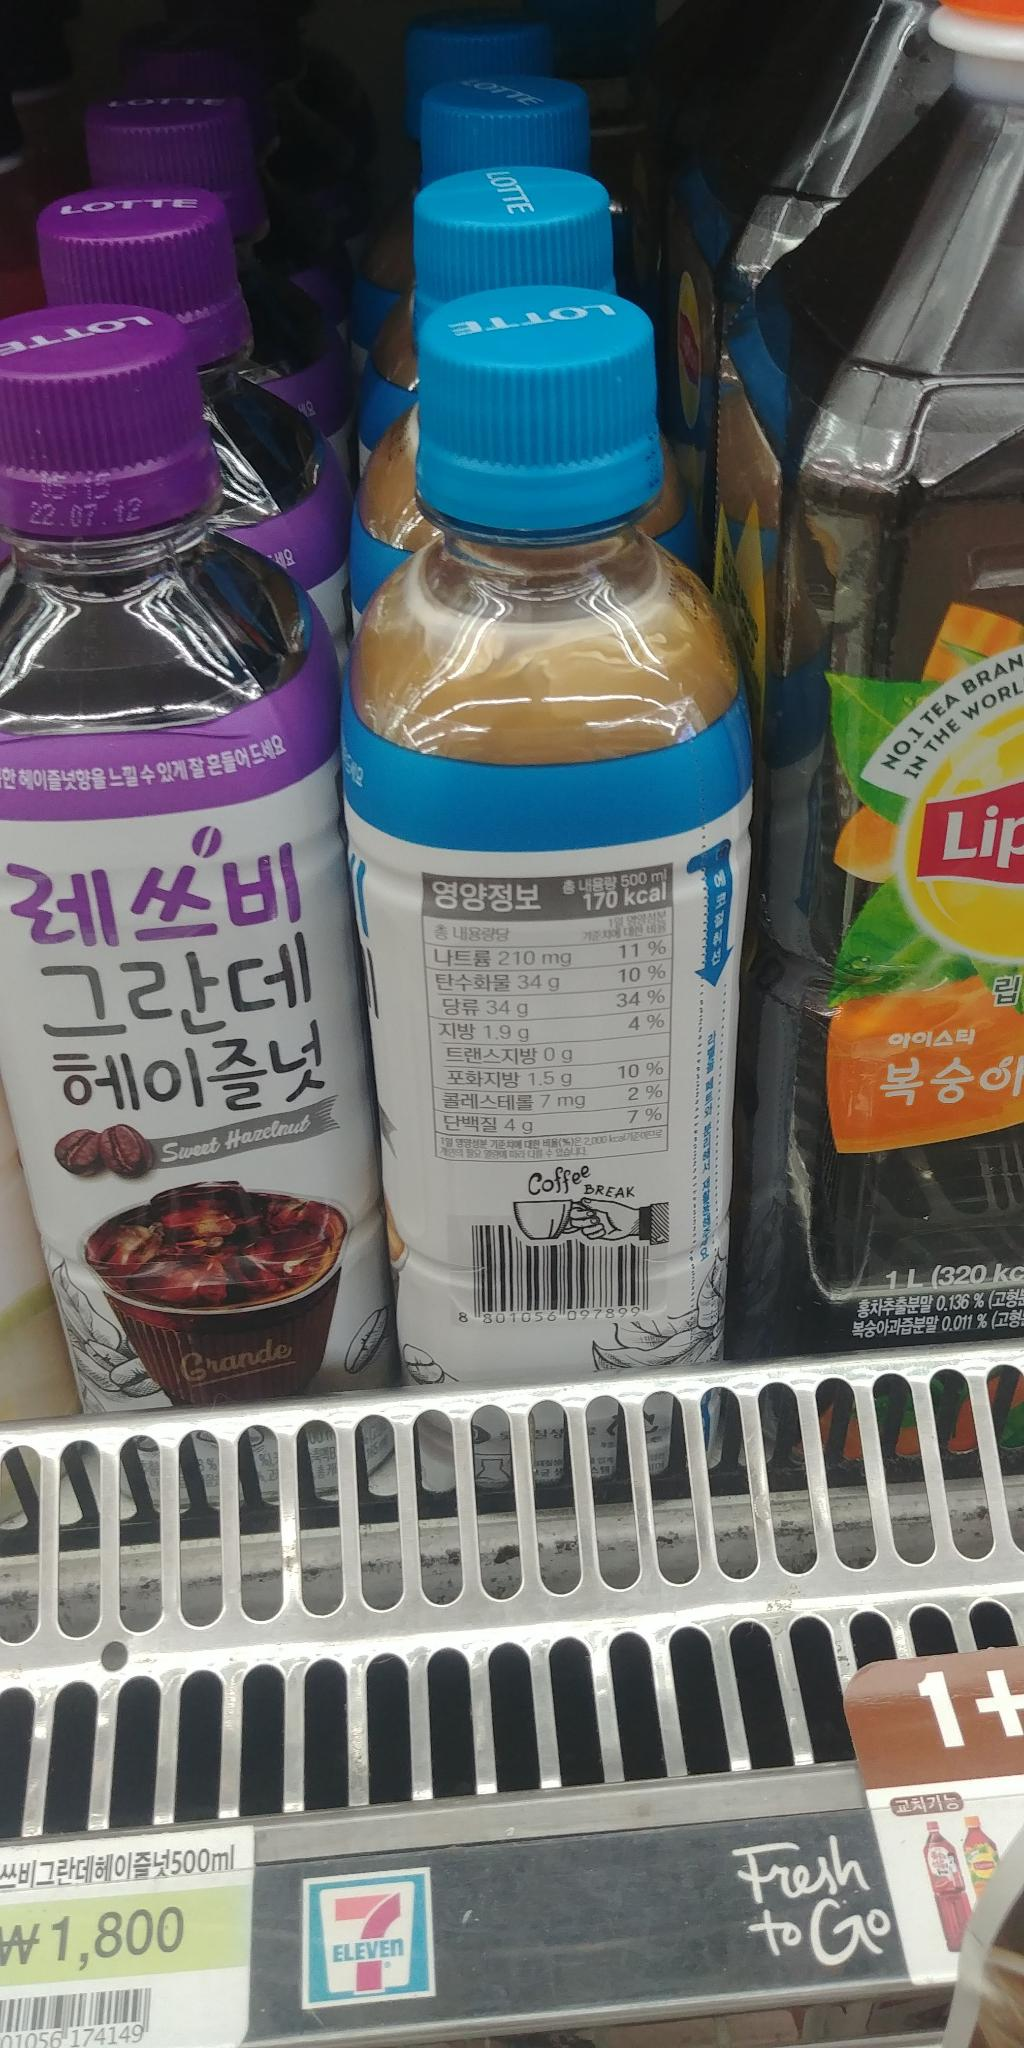letsbe_grande_hazelnut: (0, 273, 415, 1439)
